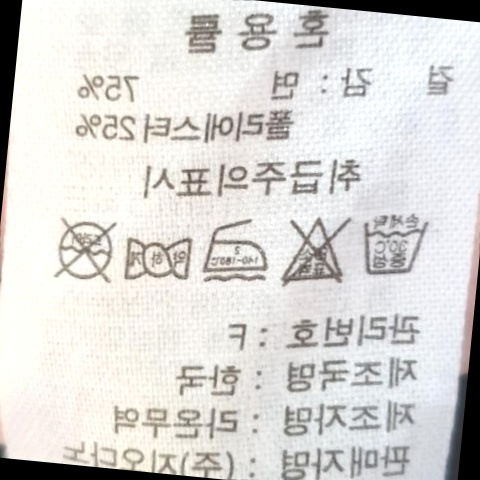DN_dry_clean: (44, 207, 124, 292)
hand_wash: (352, 208, 437, 286)
iron_medium: (198, 211, 273, 285)
non_chlorine_bleach: (267, 205, 356, 297)
wring: (117, 224, 199, 292)
